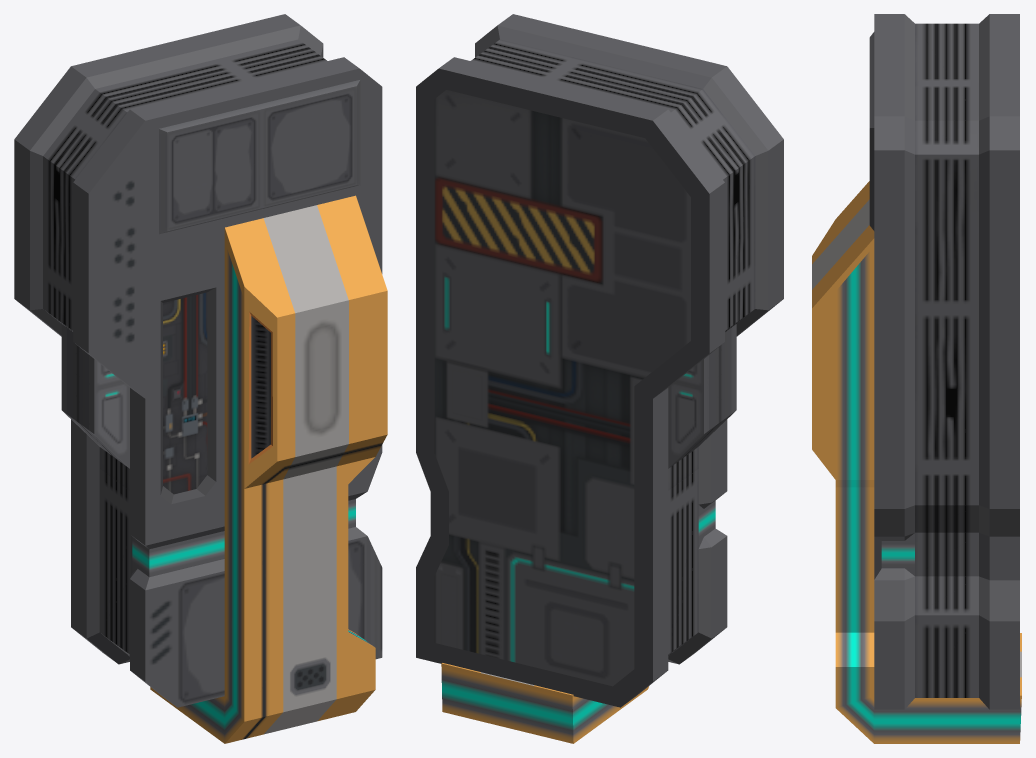
The model's file is SM_Prop_Greeble_Wall_02.fbx.
3 renders of one model, left to right at view 1: azimuth 30°, elevation 25°; view 2: azimuth 150°, elevation 25°; view 3: azimuth 270°, elevation 25°, orthographic. The views are drawn at different scales.
Parts seen in each view (by area): view 1: SM_Prop_Greeble_Wall_02; view 2: SM_Prop_Greeble_Wall_02; view 3: SM_Prop_Greeble_Wall_02.
Part boxes in pixels (box(x1,y1,x2,y2)): SM_Prop_Greeble_Wall_02: box(14, 14, 387, 743); SM_Prop_Greeble_Wall_02: box(416, 14, 783, 743); SM_Prop_Greeble_Wall_02: box(812, 14, 1021, 743).
Size of the model in its own units: 310 by 648 by 196.
